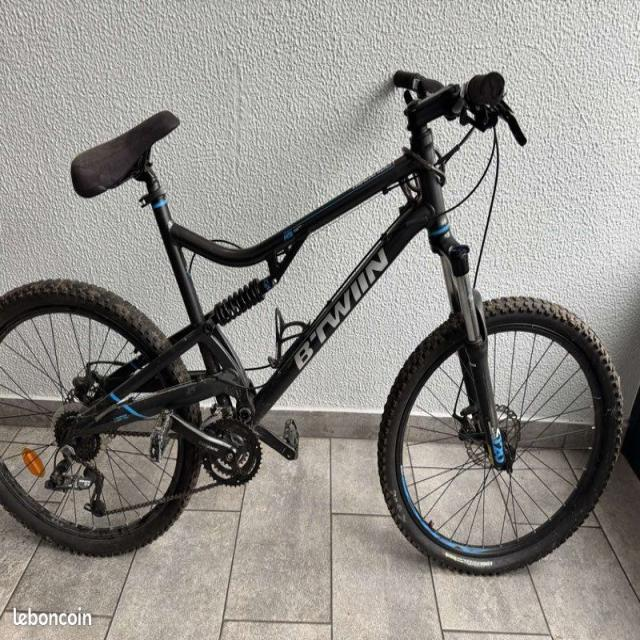Bike: (0, 70, 622, 573)
